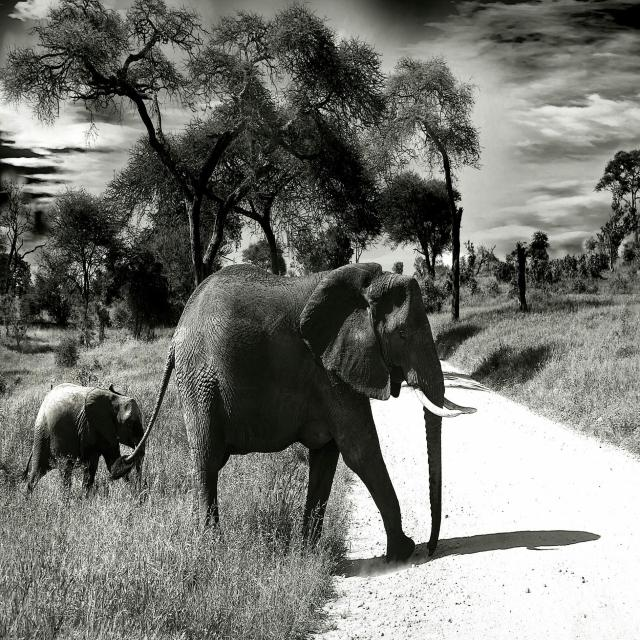Elephant: (109, 262, 479, 564), (24, 383, 146, 499)
